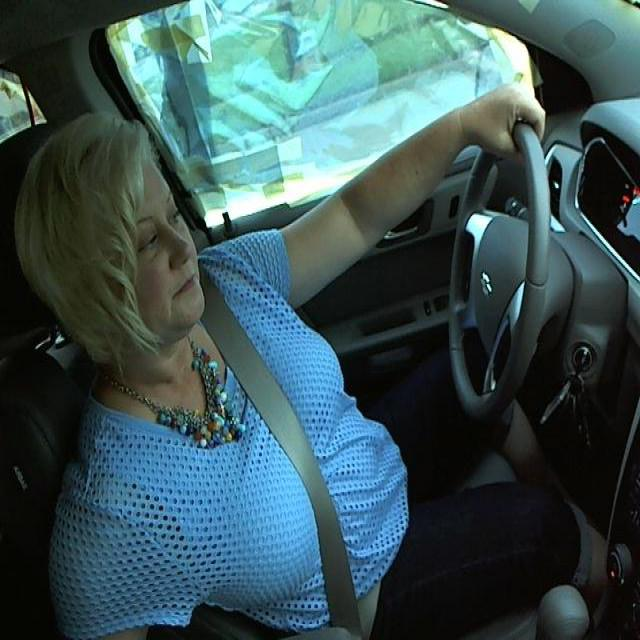seatbelt: (208, 340, 386, 637)
